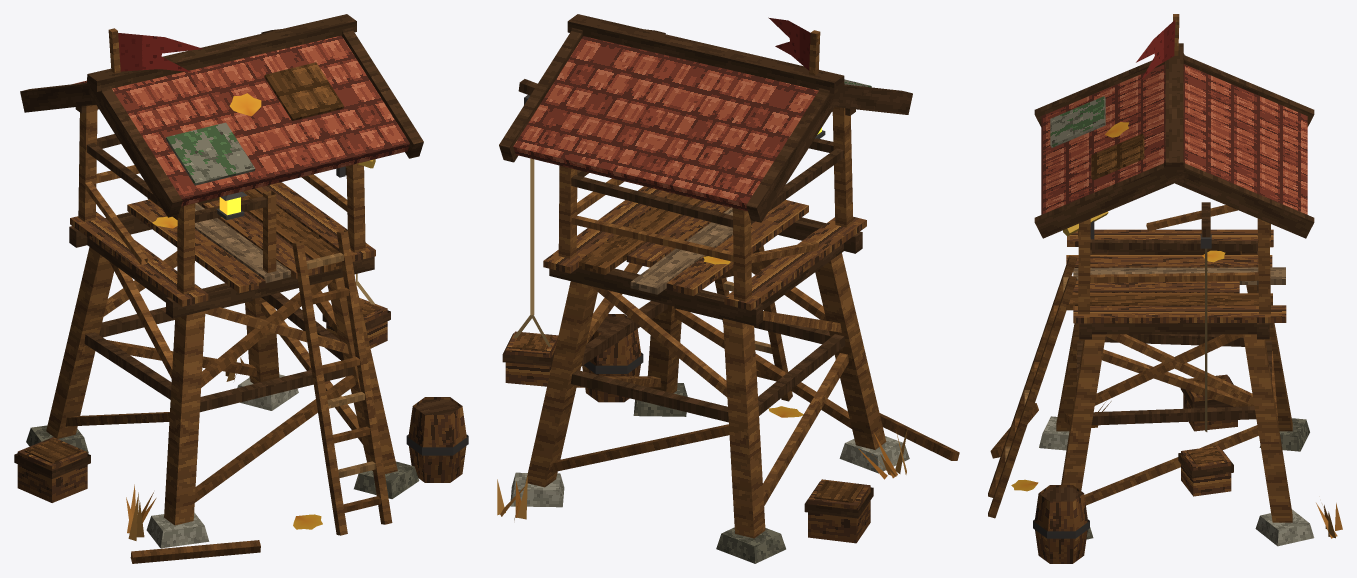
File: watchtower.glb
3 views of the same model, side by side, from view 1: azimuth 30°, elevation 25°; view 2: azimuth 150°, elevation 25°; view 3: azimuth 270°, elevation 25° (orthographic). The views are drawn at different scales.
Parts seen in each view (by area): view 1: watchtower, sway_pennant, sway_hoist; view 2: watchtower, sway_hoist, sway_pennant; view 3: watchtower, sway_hoist, sway_pennant.
Part boxes in pixels (x1,y1,x2,y2): watchtower: [14, 14, 468, 563]; sway_pennant: [118, 33, 203, 71]; sway_hoist: [322, 273, 390, 348]; watchtower: [497, 14, 959, 563]; sway_hoist: [502, 95, 558, 386]; sway_pennant: [768, 17, 810, 70]; watchtower: [988, 14, 1342, 563]; sway_hoist: [1178, 234, 1233, 496]; sway_pennant: [1136, 20, 1175, 79].
Size of the model in its own units: 4.17 by 5.17 by 3.92.
Materials: 22 (14 with a texture image).
